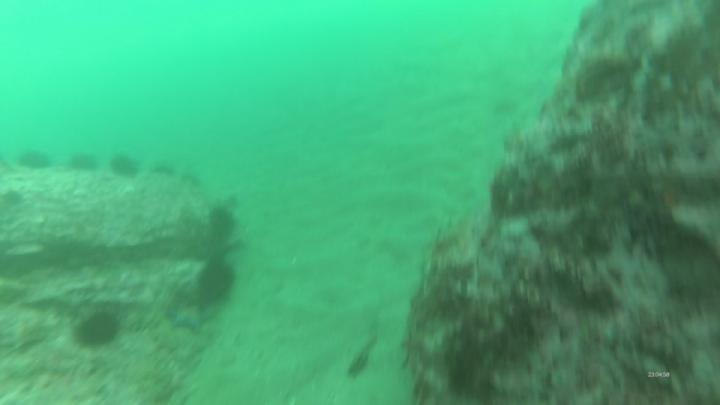echinus: (199, 257, 236, 301), (77, 309, 119, 347), (208, 206, 236, 237), (113, 156, 138, 179), (71, 152, 97, 174), (21, 152, 50, 171)
